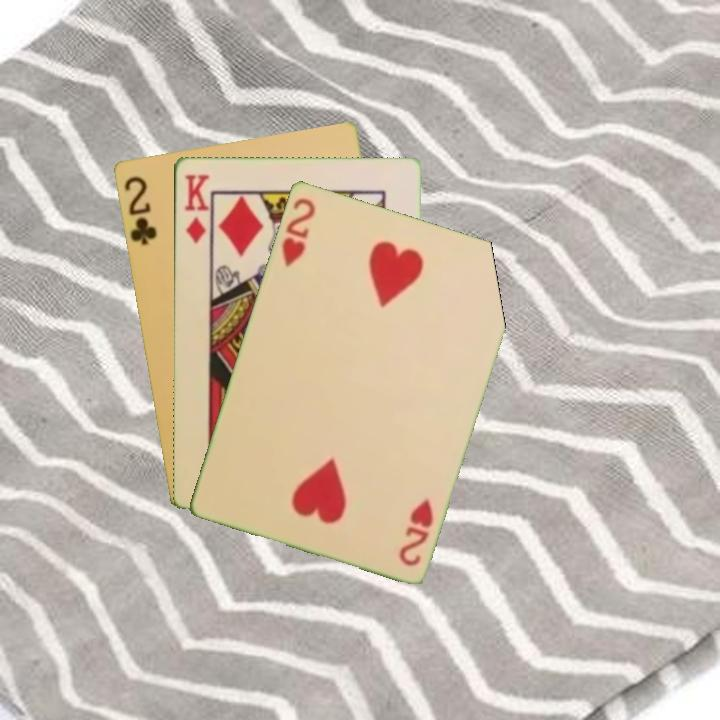2c: (120, 172, 159, 248)
2h: (277, 193, 318, 270), (395, 495, 436, 569)
Kd: (180, 171, 211, 246)
